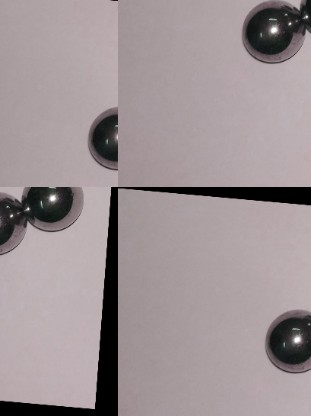ironball: (241, 0, 306, 60), (258, 307, 309, 376), (20, 184, 87, 228), (0, 186, 30, 259), (87, 104, 116, 177)
